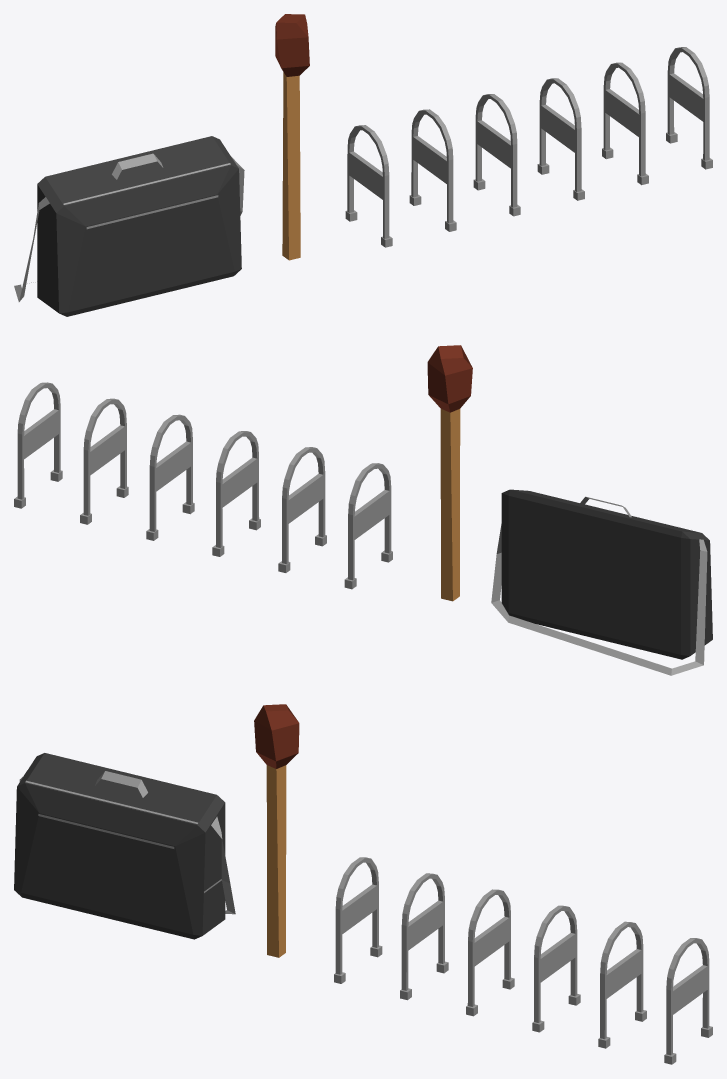
File: MATCH BAG AND BIKE STANDS.fbx
The picture shows the model from 3 angles, top to bottom: view 1: azimuth 30°, elevation 25°; view 2: azimuth 150°, elevation 25°; view 3: azimuth 330°, elevation 25°; orthographic projection. The views are drawn at different scales.
Parts seen in each view (by area): view 1: Cube.005, BIKE STAND, MATCH; view 2: Cube.005, BIKE STAND, MATCH; view 3: Cube.005, BIKE STAND, MATCH.
Boxes of the visible parts, left/top/right/bottom form: Cube.005: left=14, top=136, right=244, bottom=316; BIKE STAND: left=345, top=47, right=712, bottom=247; MATCH: left=275, top=14, right=309, bottom=260; Cube.005: left=491, top=489, right=712, bottom=675; BIKE STAND: left=14, top=382, right=392, bottom=589; MATCH: left=427, top=345, right=472, bottom=601; Cube.005: left=14, top=753, right=235, bottom=939; BIKE STAND: left=334, top=857, right=712, bottom=1064; MATCH: left=254, top=704, right=299, bottom=957.
Size of the model in its own units: 653 by 226 by 87.11.
